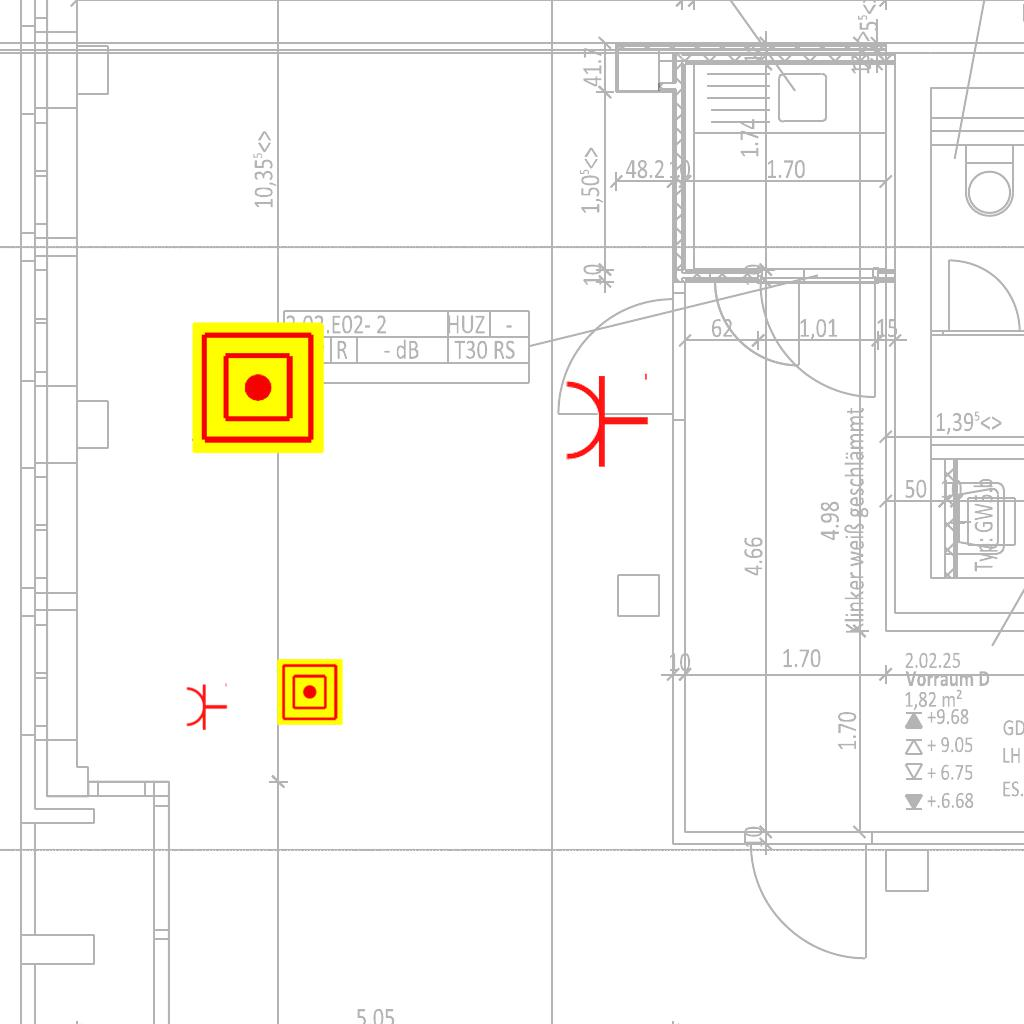NAM-Nichtautomatischer_Melder: (192, 322, 324, 454), (277, 659, 343, 725)
Schukosteckdose_einfach: (563, 369, 650, 469), (185, 681, 228, 731)
